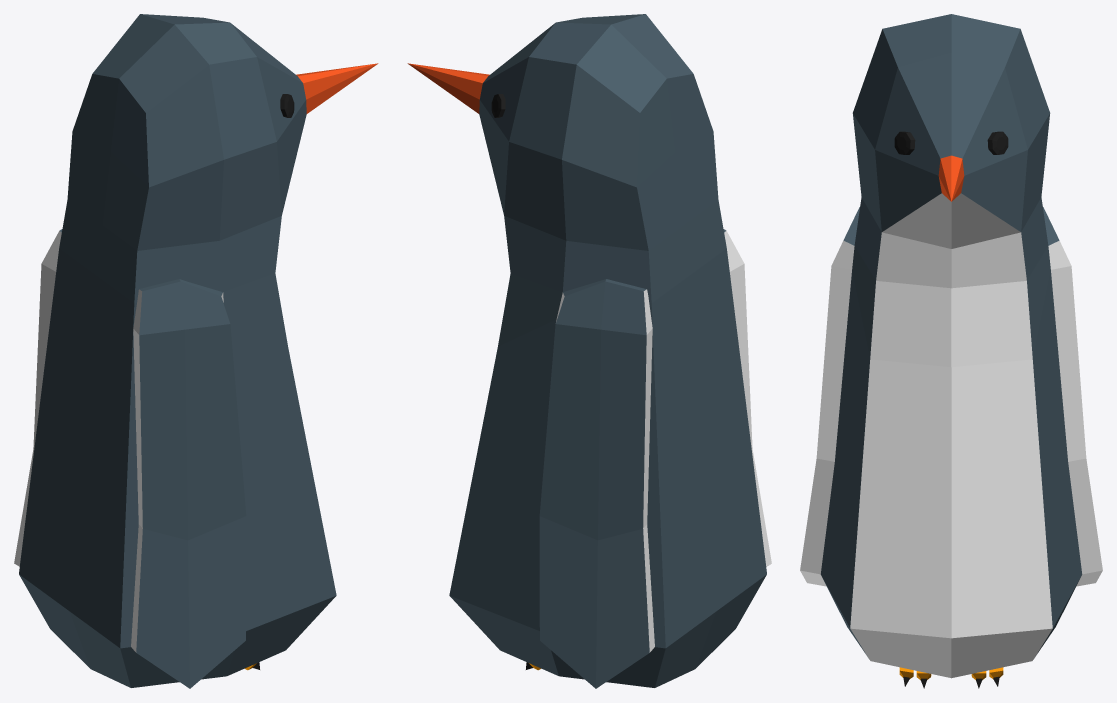
Rendered from Penguin.glb.
3 views of the same model, side by side, from view 1: azimuth 30°, elevation 25°; view 2: azimuth 150°, elevation 25°; view 3: azimuth 270°, elevation 25° (orthographic).
Visible parts, largest first — view 1: Penguin_01_Cube.044; view 2: Penguin_01_Cube.044; view 3: Penguin_01_Cube.044.
Part boxes in pixels (box(x1,y1,x2,y2)): Penguin_01_Cube.044: box(14, 14, 378, 688); Penguin_01_Cube.044: box(407, 14, 771, 688); Penguin_01_Cube.044: box(800, 14, 1102, 688).
Bounding box in the file's own units: 5.19 × 10.33 × 4.4.
